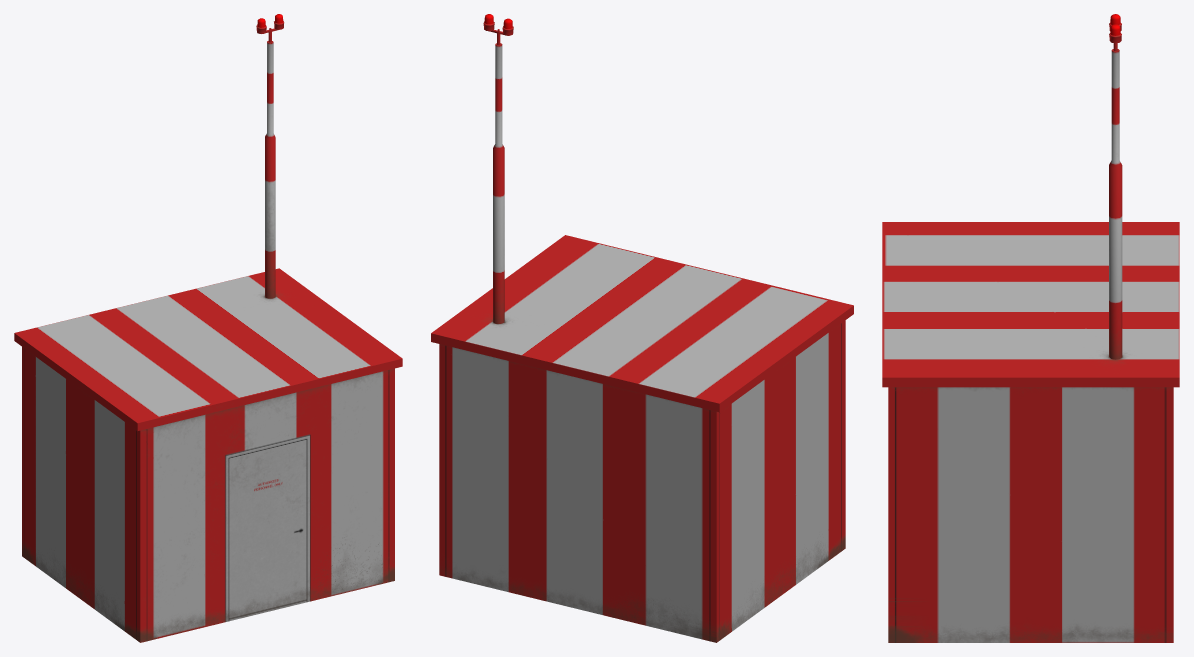
File: SM_Airport_Booth.fbx
3 views of the same model, side by side, from view 1: azimuth 30°, elevation 25°; view 2: azimuth 150°, elevation 25°; view 3: azimuth 270°, elevation 25° (orthographic). The views are drawn at different scales.
Visible parts, largest first — view 1: SM_Airport_Booth; view 2: SM_Airport_Booth; view 3: SM_Airport_Booth.
Part boxes in pixels (x1,y1,x2,y2): SM_Airport_Booth: (14,14,402,642); SM_Airport_Booth: (431,14,853,642); SM_Airport_Booth: (882,14,1179,642).
Size of the model in its own units: 3.49 by 6.31 by 2.81.
